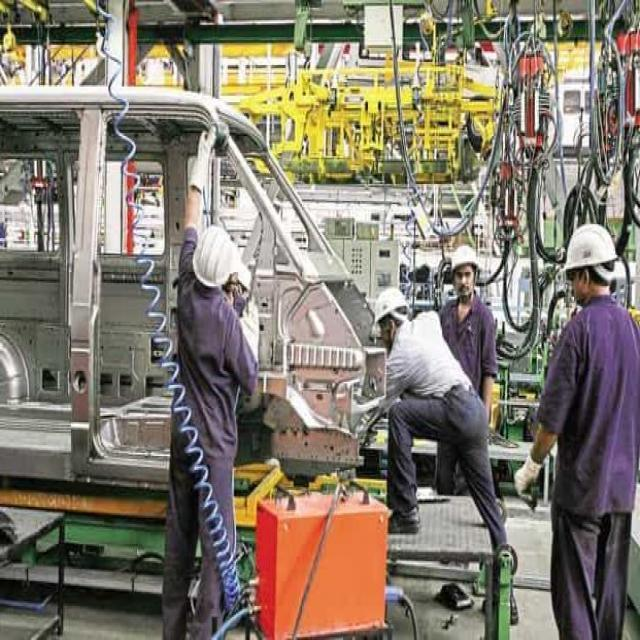safety_helmet: (186, 221, 246, 295), (558, 213, 620, 276), (365, 278, 413, 333), (439, 234, 485, 281)
